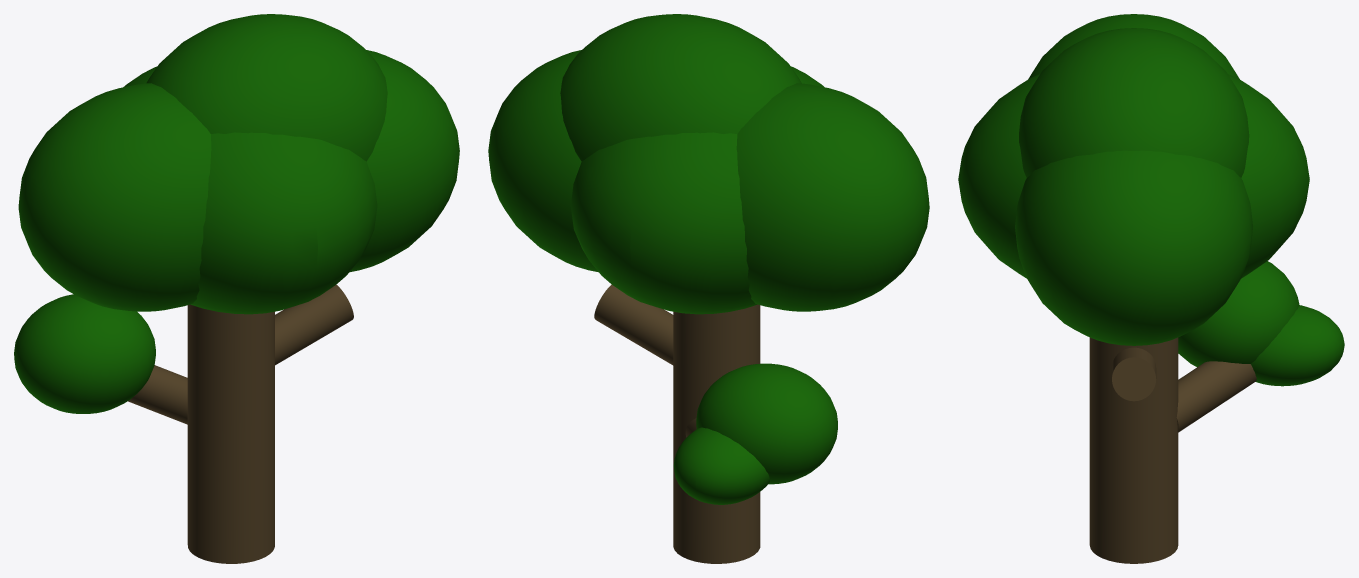
File: arbolo.fbx
3 views of the same model, side by side, from view 1: azimuth 30°, elevation 25°; view 2: azimuth 150°, elevation 25°; view 3: azimuth 270°, elevation 25° (orthographic).
Visible parts, largest first — view 1: Cylinder.001; view 2: Cylinder.001; view 3: Cylinder.001.
Part boxes in pixels (x1,y1,x2,y2): Cylinder.001: (14, 14, 459, 563); Cylinder.001: (488, 14, 929, 563); Cylinder.001: (958, 14, 1344, 563).
Size of the model in its own units: 4.49 by 5.29 by 3.58.
